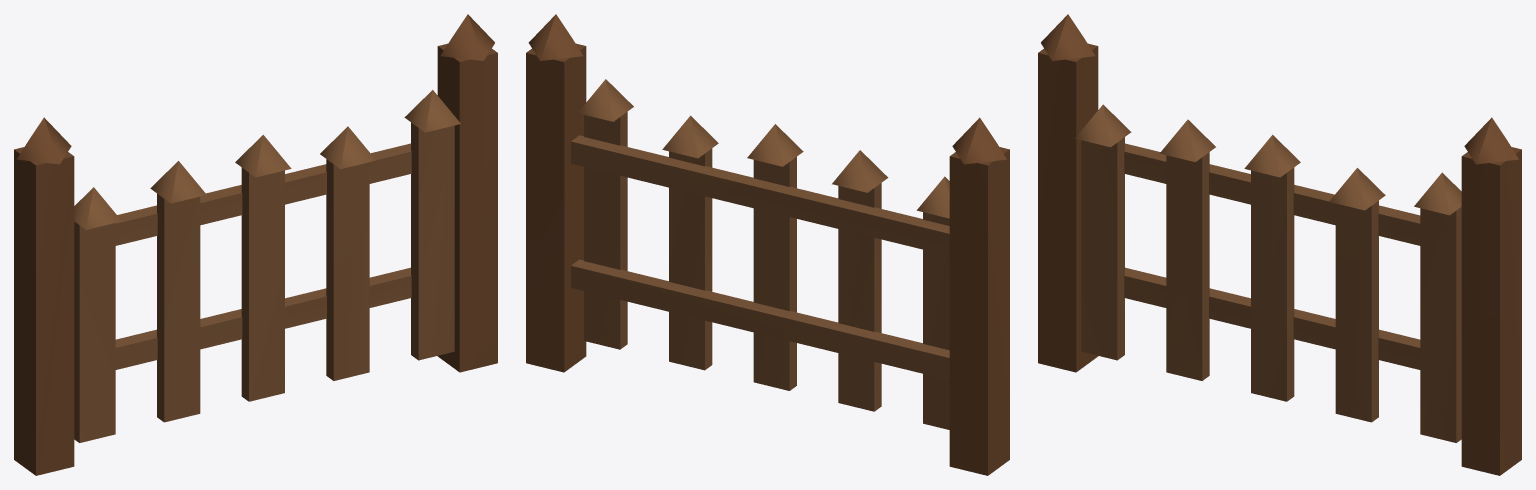
The model's file is fence.glb.
3 views of the same model, side by side, from view 1: azimuth 30°, elevation 25°; view 2: azimuth 150°, elevation 25°; view 3: azimuth 330°, elevation 25° (orthographic).
Parts seen in each view (by area): view 1: fence; view 2: fence; view 3: fence.
Part boxes in pixels (bbox=[...]): fence: bbox=[14, 14, 497, 475]; fence: bbox=[526, 14, 1009, 475]; fence: bbox=[1038, 14, 1521, 475].
Bounding box in the file's own units: 1.13 × 0.78 × 0.1374.
